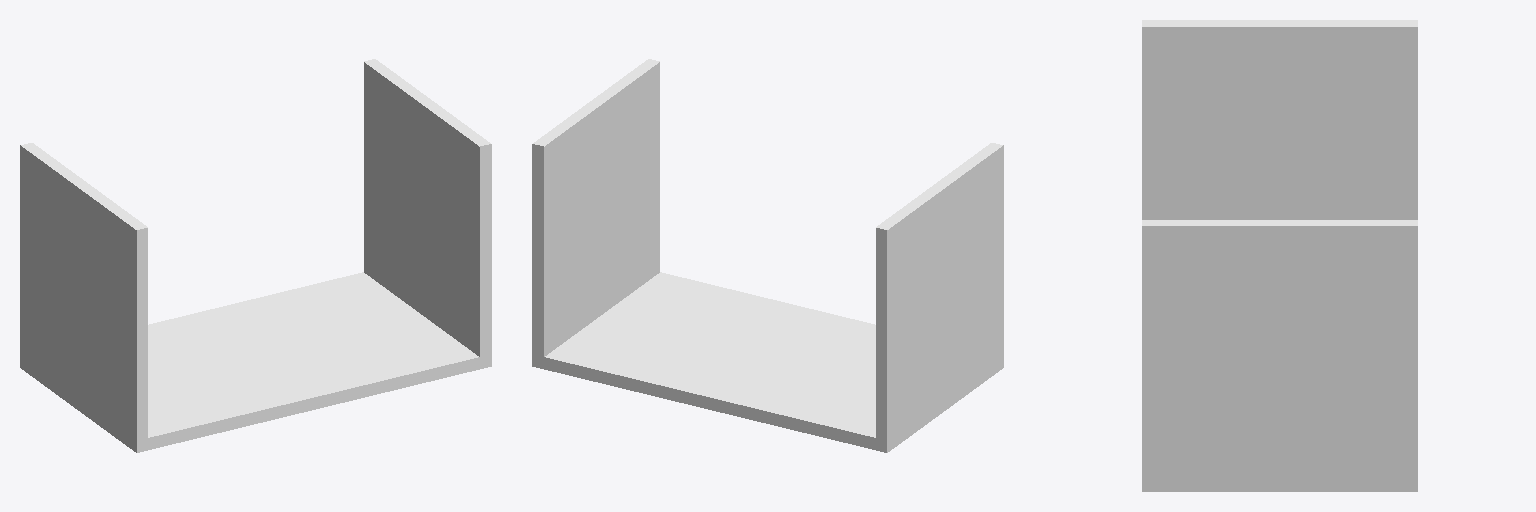
URDF robot description (gluon):
<?xml version="1.0" encoding="utf-8"?>

<robot  name="gluon">
  <link name="dummy">
  </link>
  <joint  name="dummy_center_joint"
    type="fixed">
    <origin
        xyz="0 0 0"
        rpy="0 0 0" />
    <parent
        link="dummy" />
    <child
        link="center_link" />
  </joint>
  <link name="center_link">
    <inertial>
      <origin
        xyz="1.3843E-15 1.0159E-16 0.052813"
        rpy="0 0 0" />
      <mass
        value="1.088" />
      <inertia
        ixx="0.0062111"
        ixy="-2.1701E-18"
        ixz="-3.8041E-17"
        iyy="0.019573"
        iyz="2.4964E-18"
        izz="0.018603" />
   </inertial>
    <visual>
      <origin
        xyz="0 0 0"
        rpy="0 0 0" />
      <geometry>
        <mesh
          filename="package://gluon/meshes/center_link.STL" />
      </geometry>
      <material
        name="">
        <color
          rgba="1 1 1 1" />
      </material>
    </visual>
    <collision>
      <origin
        xyz="0 0 0"
        rpy="0 0 0" />
      <geometry>
        <mesh
          filename="package://gluon/meshes/center_link.STL" />
      </geometry>
    </collision>
  </link>
  <link name="base_link">
    <inertial>
      <origin
        xyz="4.33680868994202E-18 -6.00214600243731E-11 0.0271404483614374"
        rpy="0 0 0" />
      <mass
        value="0.524001417146026" />
      <inertia
        ixx="0.000535467082580035"
        ixy="-5.8056109802237E-10"
        ixz="3.22416889484249E-20"
        iyy="0.000535467122847014"
        iyz="-1.91837356854663E-11"
        izz="0.000799852045598815" />
    </inertial>
    <visual>
      <origin
        xyz="0 0 0"
        rpy="0 0 0" />
      <geometry>
        <mesh
          filename="package://gluon/meshes/base_link.STL" />
      </geometry>
      <material
        name="">
        <color
          rgba="1 1 1 1" />
      </material>
    </visual>
    <collision>
      <origin
        xyz="0 0 0"
        rpy="0 0 0" />
      <geometry>
        <mesh
          filename="package://gluon/meshes/base_link.STL" />
      </geometry>
    </collision>
  </link>
  <joint  name="left_base_joint"
    type="fixed">
    <origin
        xyz="0 0 0"
        rpy="0 0 0" />
    <parent
        link="center_link" />
    <child
        link="base_link" />
  </joint>
  <link name="1_Link">
    <inertial>
      <origin
        xyz="0.00464247258603146 -3.55800695980568E-05 -0.000556506974114818"
        rpy="0 0 0" />
      <mass
        value="0.166259789544396" />
      <inertia
        ixx="6.76518298922659E-05"
        ixy="-1.5556489245956E-08"
        ixz="-8.15879264327807E-06"
        iyy="6.70385565720365E-05"
        iyz="4.11369338798553E-08"
        izz="6.03698353342124E-05" />
    </inertial>
    <visual>
      <origin
        xyz="0 0 0"
        rpy="0 0 0" />
      <geometry>
        <mesh
          filename="package://gluon/meshes/1_Link.STL" />
      </geometry>
      <material
        name="">
        <color
          rgba="1 1 1 1" />
      </material>
    </visual>
    <collision>
      <origin
        xyz="0 0 0"
        rpy="0 0 0" />
      <geometry>
        <mesh
          filename="package://gluon/meshes/1_Link.STL" />
      </geometry>
    </collision>
  </link>
  <joint  name="axis_joint_1"
    type="revolute">
    <origin
      xyz="-2.4327E-05 2.2695E-05 0.105"
      rpy="0 0 0" />
    <parent
      link="base_link" />
    <child
      link="1_Link" />
    <axis
      xyz="0 0 -1" />
    <limit
      lower="-2.79"
      upper="2.79"
      effort="30"
      velocity="3.14" />
  </joint>
  <link name="2_Link">
    <inertial>
      <origin
        xyz="-0.00354399449686532 6.83167072432211E-06 0.0535596075762168"
        rpy="0 0 0" />
      <mass
        value="0.316094041078938" />
      <inertia
        ixx="0.000174638310500152"
        ixy="-4.1835416811351E-08"
        ixz="-2.08841744154906E-07"
        iyy="0.000184936237600061"
        iyz="1.60668786323061E-08"
        izz="0.000107780595065675" />
    </inertial>
    <visual>
      <origin
        xyz="0 0 0"
        rpy="0 0 0" />
      <geometry>
        <mesh
          filename="package://gluon/meshes/2_Link.STL" />
      </geometry>
      <material
        name="">
        <color
          rgba="1 1 1 1" />
      </material>
    </visual>
    <collision>
      <origin
        xyz="0 0 0"
        rpy="0 0 0" />
      <geometry>
        <mesh
          filename="package://gluon/meshes/2_Link.STL" />
      </geometry>
    </collision>
  </link>
  <joint  name="axis_joint_2"
    type="revolute">
    <origin
      xyz="0.080113 -2.2695E-05 0"
      rpy="0 0 0" />
    <parent
      link="1_Link" />
    <child
      link="2_Link" />
    <axis
      xyz="-1 0 0" />
    <limit
      lower="-1.54"
      upper="1.54"
      effort="30"
      velocity="3.14" />
  </joint>
  <link name="3_Link">
    <inertial>
      <origin
        xyz="-0.046552753550141 -6.68259662081616E-06 0.0523242797053055"
        rpy="0 0 0" />
      <mass
        value="0.323135746651779" />
      <inertia
        ixx="0.000176611314431077"
        ixy="4.18325643591624E-08"
        ixz="2.08841259569185E-07"
        iyy="0.000185932099122903"
        iyz="1.40317731158265E-08"
        izz="0.000108776454638344" />
    </inertial>
    <visual>
      <origin
        xyz="0 0 0"
        rpy="0 0 0" />
      <geometry>
        <mesh
          filename="package://gluon/meshes/3_Link.STL" />
      </geometry>
      <material
        name="">
        <color
          rgba="1 1 1 1" />
      </material>
    </visual>
    <collision>
      <origin
        xyz="0 0 0"
        rpy="0 0 0" />
      <geometry>
        <mesh
          filename="package://gluon/meshes/3_Link.STL" />
      </geometry>
    </collision>
  </link>
  <joint  name="axis_joint_3"
    type="revolute">
    <origin
      xyz="0 0 0.17447"
      rpy="0 0 0" />
    <parent
      link="2_Link" />
    <child
      link="3_Link" />
    <axis
      xyz="1 0 0" />
    <limit
      lower="-2.79"
      upper="2.79"
      effort="30"
      velocity="3.14" />
  </joint>
  <link name="4_Link">
    <inertial>
      <origin
        xyz="0.0182269184920331 1.24412678982888E-05 0.00395855146065832"
        rpy="0 0 0" />
      <mass
        value="0.174947986817189" />
      <inertia
        ixx="6.61039276820243E-05"
        ixy="4.2340099438174E-08"
        ixz="-8.15879264340351E-06"
        iyy="6.76311730651952E-05"
        iyz="-1.4353323683088E-08"
        izz="6.34296690009448E-05" />
    </inertial>
    <visual>
      <origin
        xyz="0 0 0"
        rpy="0 0 0" />
      <geometry>
        <mesh
          filename="package://gluon/meshes/4_Link.STL" />
      </geometry>
      <material
        name="">
        <color
          rgba="1 1 1 1" />
      </material>
    </visual>
    <collision>
      <origin
        xyz="0 0 0"
        rpy="0 0 0" />
      <geometry>
        <mesh
          filename="package://gluon/meshes/4_Link.STL" />
      </geometry>
    </collision>
  </link>
  <joint  name="axis_joint_4"
    type="revolute">
    <origin
      xyz="-0.084516 0 0.17442"
      rpy="0 0 0" />
    <parent
      link="3_Link" />
    <child
      link="4_Link" />
    <axis
      xyz="-1 0 0" />
    <limit
      lower="-2.79"
      upper="2.79"
      effort="30"
      velocity="3.14" />
  </joint>
  <link name="5_Link">
    <inertial>
      <origin
        xyz="0.00395855202736296 -3.51379306736399E-05 0.0182025903111476"
        rpy="0 0 0" />
      <mass
        value="0.174947985033356" />
      <inertia
        ixx="6.34296685392068E-05"
        ixy="1.43441999593359E-08"
        ixz="-8.15879467982627E-06"
        iyy="6.76311733496419E-05"
        iyz="-4.23418981680198E-08"
        izz="6.61039240611986E-05" />
    </inertial>
    <visual>
      <origin
        xyz="0 0 0"
        rpy="0 0 0" />
      <geometry>
        <mesh
          filename="package://gluon/meshes/5_Link.STL" />
      </geometry>
      <material
        name="">
        <color
          rgba="1 1 1 1" />
      </material>
    </visual>
    <collision>
      <origin
        xyz="0 0 0"
        rpy="0 0 0" />
      <geometry>
        <mesh
          filename="package://gluon/meshes/5_Link.STL" />
      </geometry>
    </collision>
  </link>
  <joint  name="axis_joint_5"
    type="revolute">
    <origin
      xyz="0.080113 2.2695E-05 0"
      rpy="0 0 0" />
    <parent
      link="4_Link" />
    <child
      link="5_Link" />
    <axis
      xyz="0 0 -1" />
    <limit
      lower="-2.79"
      upper="2.79"
      effort="30"
      velocity="3.14" />
  </joint>
  <link name="6_Link">
    <inertial>
      <origin
        xyz="-0.00231632591813243 4.03819823737578E-05 -5.08515816782795E-05"
        rpy="0 0 0" />
      <mass
        value="0.122091979083374" />
      <inertia
        ixx="3.76561532469651E-05"
        ixy="4.18325643595058E-08"
        ixz="-2.08841259371089E-07"
        iyy="4.00422747874576E-05"
        iyz="-1.50489542382975E-08"
        izz="3.97966719504564E-05" />
    </inertial>
    <visual>
      <origin
        xyz="0 0 0"
        rpy="0 0 0" />
      <geometry>
        <mesh
          filename="package://gluon/meshes/6_Link.STL" />
      </geometry>
      <material
        name="">
        <color
          rgba="1 1 1 1" />
      </material>
    </visual>
    <collision>
      <origin
        xyz="0 0 0"
        rpy="0 0 0" />
      <geometry>
        <mesh
          filename="package://gluon/meshes/6_Link.STL" />
      </geometry>
    </collision>
  </link>
  <joint  name="axis_joint_6"
    type="revolute">
    <origin
      xyz="0 -4.5391E-05 0.080089"
      rpy="0 0 0" />
    <parent
      link="5_Link" />
    <child
      link="6_Link" />
    <axis
      xyz="-1 0 0" />
    <limit
      lower="-2.79"
      upper="2.79"
      effort="30"
      velocity="3.14" />
  </joint>
</robot>

--- Facts derived from the render (not from the file) ---
Views: 3 orthographic renders of the robot side by side, from view 1: azimuth 30°, elevation 25°; view 2: azimuth 150°, elevation 25°; view 3: azimuth 270°, elevation 25°.
Robot: gluon — 9 links, 8 joints (6 revolute, 2 fixed); root link dummy; default pose: every joint at zero.
Visible links, largest first — view 1: center_link; view 2: center_link; view 3: center_link.
Link boxes in pixels (x1,y1,x2,y2): center_link: (20,59,491,452); center_link: (532,59,1003,452); center_link: (1142,20,1417,491).
Bounding box of the posed robot: 0.3 × 0.17 × 0.18 m (x, y, z).
Meshes: 8 distinct files referenced, 1 mesh visuals loaded (1 binary STL); not drawn: 7 (reference not matched to a file when rendering).